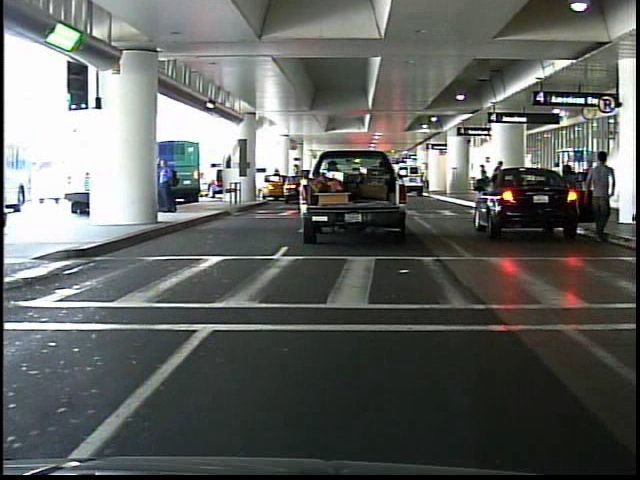person: (579, 148, 620, 244), (156, 149, 181, 216)
